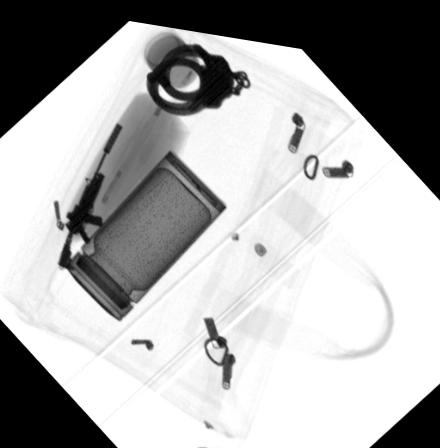Gun: (56, 116, 124, 271)
HandCuffs: (146, 36, 233, 111)
